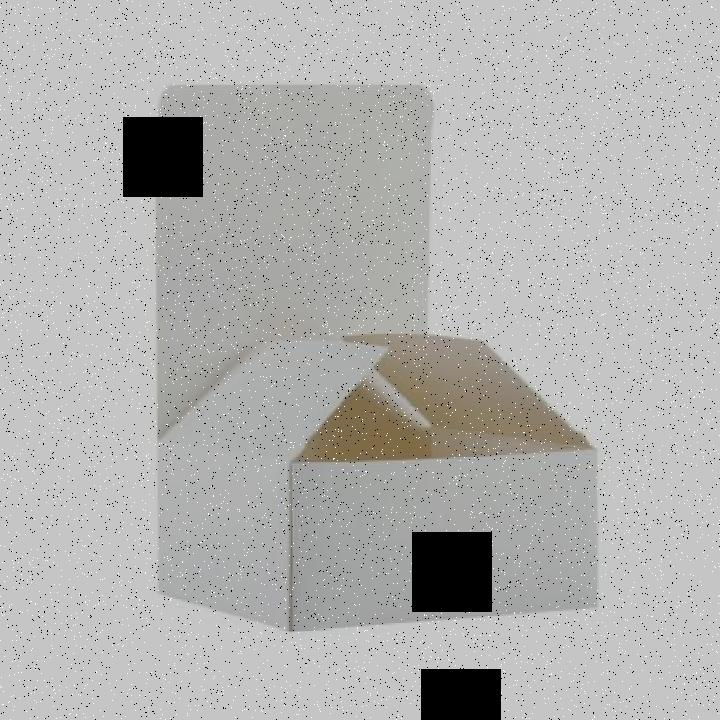box: (137, 74, 609, 637)
